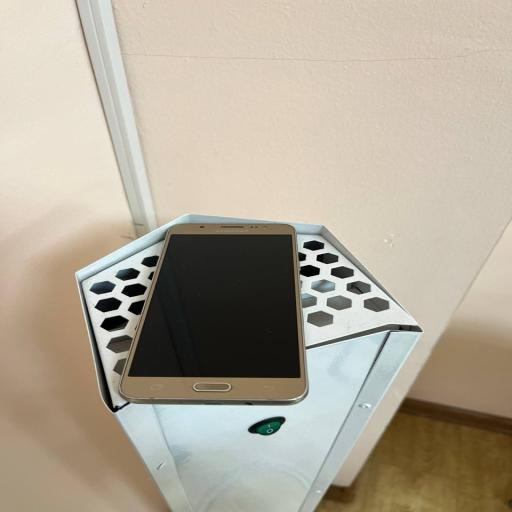people: (120, 224, 307, 404)
